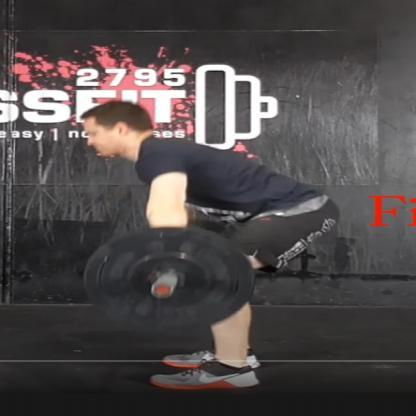Barbell: (151, 283, 178, 301)
